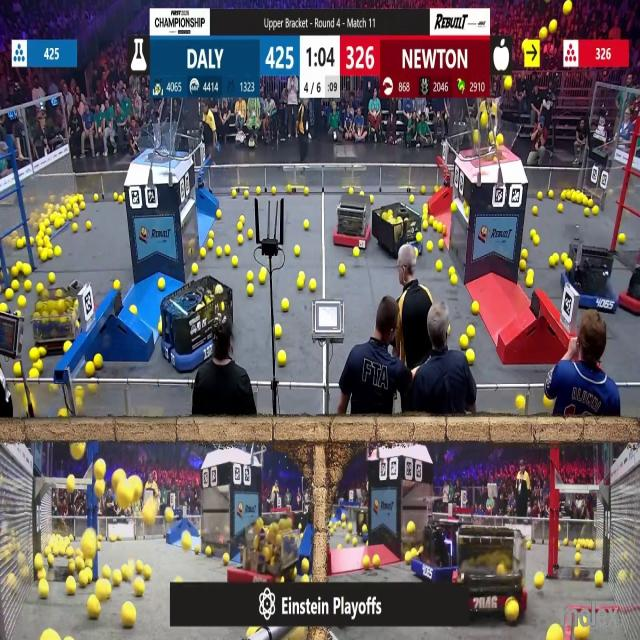ball_airborne: (116, 480, 134, 510), (72, 444, 85, 461), (144, 507, 155, 527), (133, 479, 144, 497), (96, 459, 107, 476), (96, 481, 106, 497), (114, 469, 124, 485), (68, 477, 76, 492), (504, 76, 512, 89), (550, 21, 558, 34), (564, 1, 572, 14), (472, 130, 479, 144), (482, 112, 488, 127), (539, 28, 546, 40), (496, 135, 503, 145), (489, 133, 495, 144), (492, 105, 497, 114)
ball_ground: (507, 602, 520, 624), (124, 604, 136, 627), (98, 583, 111, 600), (90, 598, 101, 618), (135, 580, 145, 598), (574, 627, 587, 640), (549, 626, 562, 639), (78, 570, 88, 586), (39, 582, 48, 599), (67, 580, 76, 596), (124, 566, 134, 580), (534, 572, 543, 587), (114, 570, 123, 585), (542, 396, 552, 409), (596, 571, 604, 587), (87, 360, 96, 374), (182, 533, 190, 548), (517, 395, 526, 408), (275, 324, 283, 338), (278, 352, 286, 366), (95, 354, 103, 368), (466, 350, 474, 364), (258, 271, 266, 285), (302, 560, 310, 574), (362, 556, 370, 569), (460, 337, 468, 350), (166, 510, 174, 523), (41, 631, 54, 639), (144, 566, 151, 580), (5, 288, 13, 300), (373, 556, 381, 568), (551, 254, 559, 266), (564, 261, 572, 273), (35, 556, 43, 568), (68, 561, 76, 573), (13, 362, 20, 375), (31, 348, 38, 361), (36, 359, 44, 370), (25, 280, 32, 292), (282, 300, 289, 312), (467, 325, 474, 337), (310, 280, 317, 292), (11, 280, 18, 292), (103, 566, 110, 578), (408, 522, 415, 534), (31, 366, 39, 376), (24, 266, 32, 276), (60, 410, 68, 420), (136, 564, 144, 574), (38, 569, 46, 579), (340, 266, 347, 277), (296, 279, 303, 290), (64, 342, 71, 353), (247, 272, 253, 284), (471, 303, 477, 315), (160, 279, 166, 291), (222, 554, 228, 566), (113, 280, 120, 290), (247, 284, 254, 294), (435, 262, 442, 272), (526, 276, 533, 286), (36, 283, 43, 293), (403, 554, 410, 564), (11, 268, 18, 278), (43, 237, 50, 247), (48, 273, 54, 284), (427, 241, 433, 252), (18, 295, 24, 306), (620, 234, 626, 245), (520, 261, 526, 272), (39, 347, 45, 358), (451, 276, 458, 285), (193, 544, 200, 553), (233, 256, 239, 266), (201, 248, 207, 258), (293, 246, 299, 256), (216, 247, 222, 257), (574, 554, 580, 564), (56, 247, 62, 257), (87, 220, 93, 230), (206, 545, 212, 555), (573, 568, 579, 578), (46, 249, 52, 259), (47, 556, 53, 566), (74, 206, 80, 216), (175, 575, 182, 583), (303, 574, 310, 582), (297, 272, 304, 280), (191, 265, 196, 276), (522, 249, 528, 258), (0, 304, 6, 313), (593, 207, 599, 216), (238, 236, 244, 245), (533, 237, 539, 246), (558, 204, 564, 213), (440, 223, 446, 232), (588, 539, 594, 548), (224, 245, 229, 255), (248, 230, 253, 240), (305, 219, 310, 229), (440, 240, 445, 250), (452, 203, 457, 213), (132, 306, 138, 314), (450, 267, 456, 275), (532, 207, 538, 215), (72, 223, 78, 231), (422, 221, 428, 229), (237, 222, 243, 230), (94, 193, 100, 201), (348, 523, 354, 531), (286, 185, 292, 193), (526, 540, 532, 548), (30, 238, 36, 246), (354, 248, 359, 257), (216, 210, 221, 219), (208, 240, 213, 249), (417, 234, 422, 243), (41, 252, 46, 261), (118, 193, 123, 202), (244, 190, 250, 197), (348, 187, 354, 194), (547, 190, 552, 198), (537, 190, 542, 198), (464, 208, 469, 216), (586, 208, 591, 216), (255, 186, 260, 194), (209, 232, 214, 240), (562, 252, 567, 260), (421, 185, 426, 193), (305, 187, 310, 195), (68, 212, 73, 220), (362, 525, 367, 533), (584, 618, 589, 626), (561, 190, 566, 198), (423, 206, 428, 214), (346, 535, 351, 542), (240, 215, 245, 222), (433, 185, 438, 192), (353, 537, 357, 545), (411, 194, 415, 202), (338, 542, 342, 550), (80, 202, 84, 210), (114, 192, 118, 200), (433, 222, 437, 230), (272, 186, 276, 194), (343, 512, 347, 520), (16, 311, 20, 318), (233, 190, 237, 197), (368, 195, 372, 202), (280, 576, 284, 583), (530, 231, 534, 238), (564, 538, 568, 544)
goal: (468, 116, 520, 161), (130, 130, 188, 161)
robot_blue: (162, 280, 236, 370), (566, 247, 617, 312), (414, 520, 462, 587), (373, 202, 421, 258)
robot_red: (458, 527, 527, 617), (232, 518, 300, 584), (32, 289, 79, 352), (334, 193, 373, 248), (620, 243, 640, 318)
